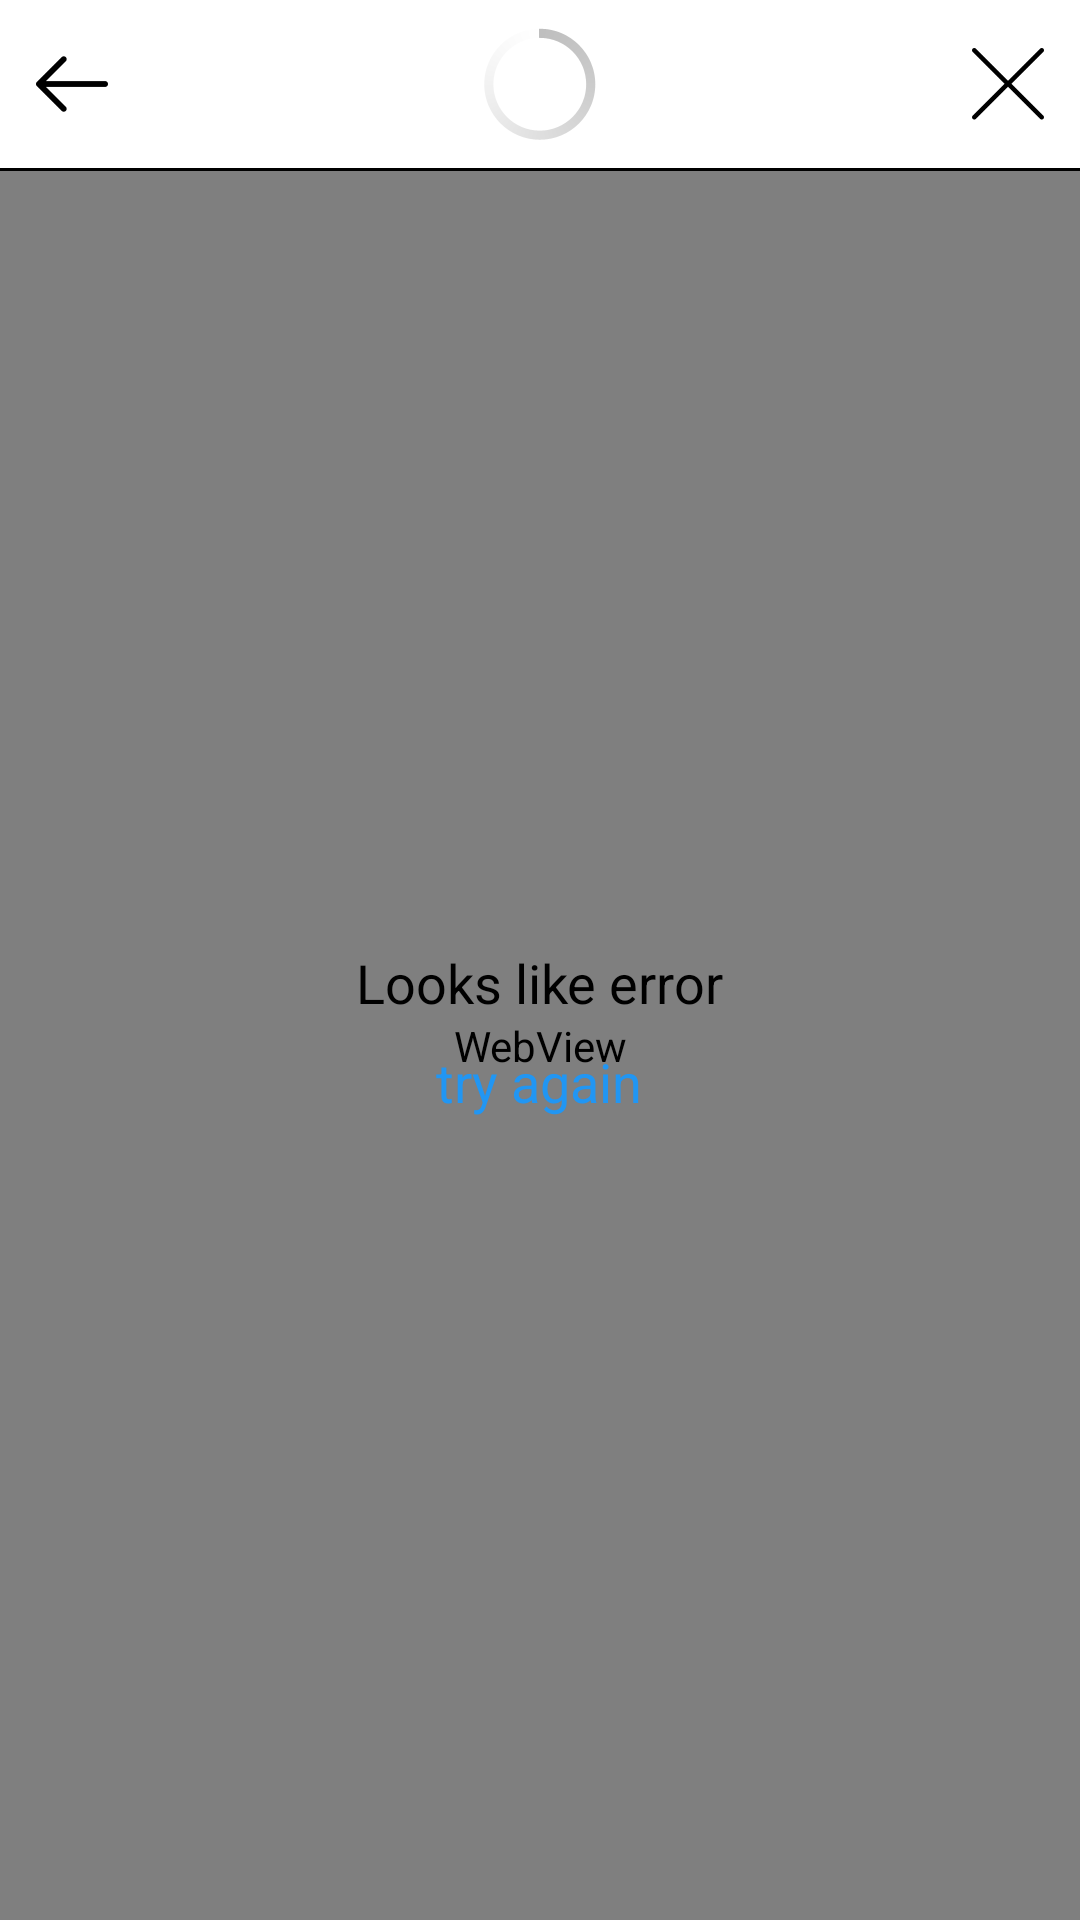

Icon click points for this 1080px x 1920px phone screenshot, format (x,y):
arrow left: (72,84)
cancel: (1008,84)
